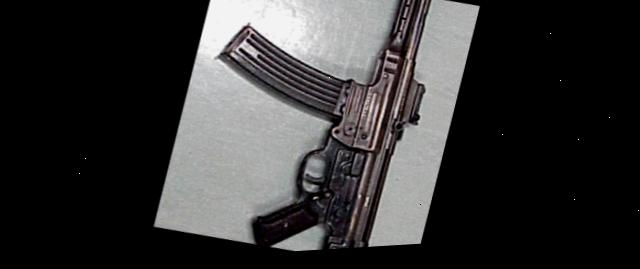rifle: (178, 0, 460, 260)
